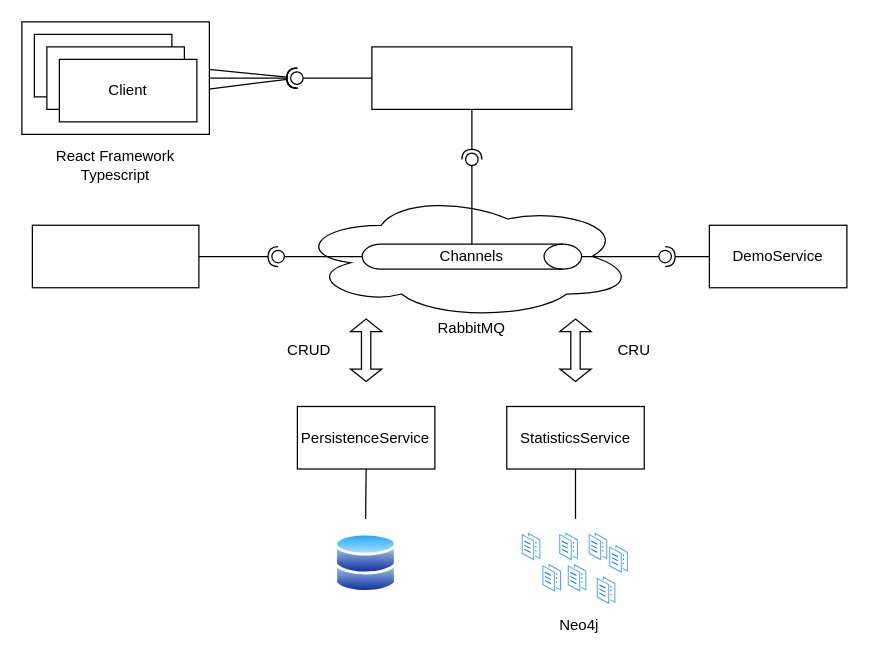
Image size: 869x666. Some labels were removed from this diagram. The shapes that lost their labels are listed below. From the top down, each one's box as (x1, y1, x2, y2) in pixels, then its label:
(371, 46, 572, 109): ApplicationService
(31, 224, 199, 288): AuthenticationService
(334, 532, 397, 593): MariaDB
